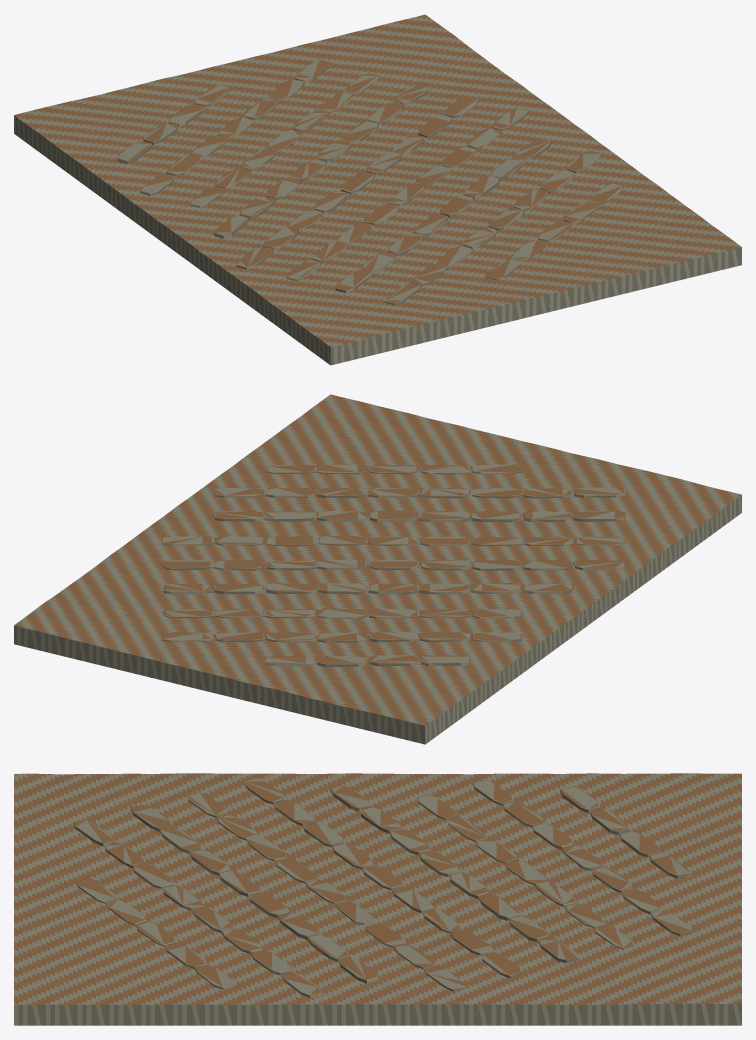
Rendered from rocky_diagonal_ledges.dae.
3 views of the same model, one above another, from view 1: azimuth 30°, elevation 25°; view 2: azimuth 150°, elevation 25°; view 3: azimuth 270°, elevation 25° (orthographic). The views are drawn at different scales.
Parts seen in each view (by area): view 1: terrain_node; view 2: terrain_node; view 3: terrain_node.
Part boxes in pixels (x1,y1,x2,y2): terrain_node: (14,14,741,365); terrain_node: (14,394,741,744); terrain_node: (14,773,741,1025).
Size of the model in its own units: 6 by 8 by 0.3081.
